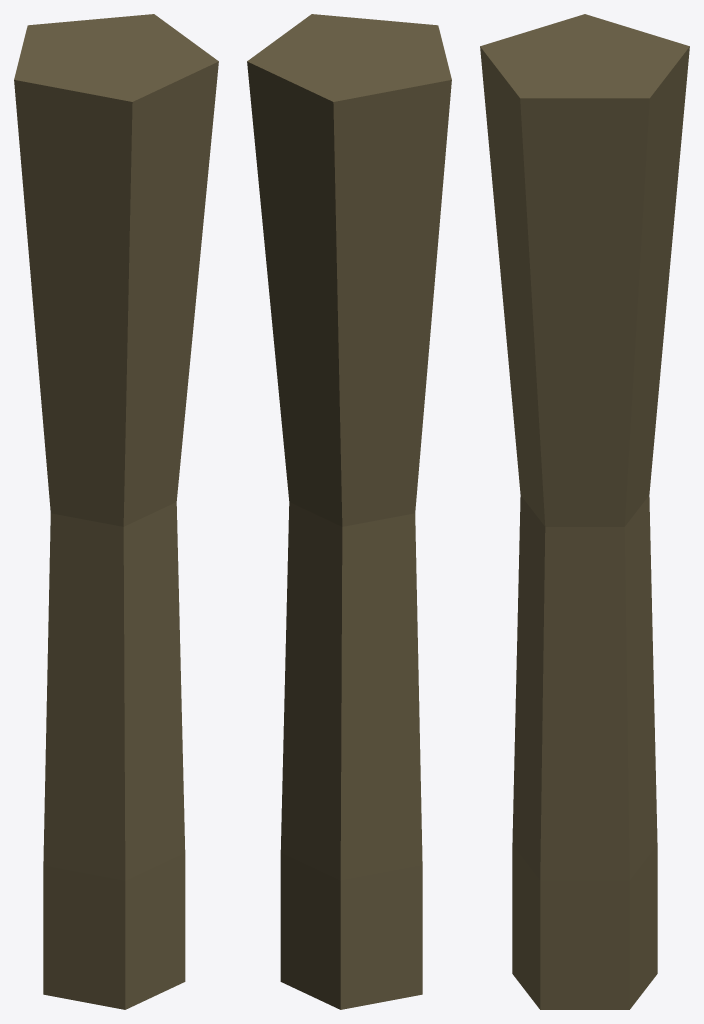
File: animal_spelopede_leg.obj
3 views of the same model, side by side, from view 1: azimuth 30°, elevation 25°; view 2: azimuth 150°, elevation 25°; view 3: azimuth 270°, elevation 25° (orthographic).
Visible parts, largest first — view 1: animal_spelopede_leg; view 2: animal_spelopede_leg; view 3: animal_spelopede_leg.
Part boxes in pixels (bbox=[...]): animal_spelopede_leg: bbox=[14, 14, 218, 1009]; animal_spelopede_leg: bbox=[247, 14, 451, 1009]; animal_spelopede_leg: bbox=[480, 14, 689, 1009].
Size of the model in its own units: 0.0517 by 0.264 by 0.0544.
